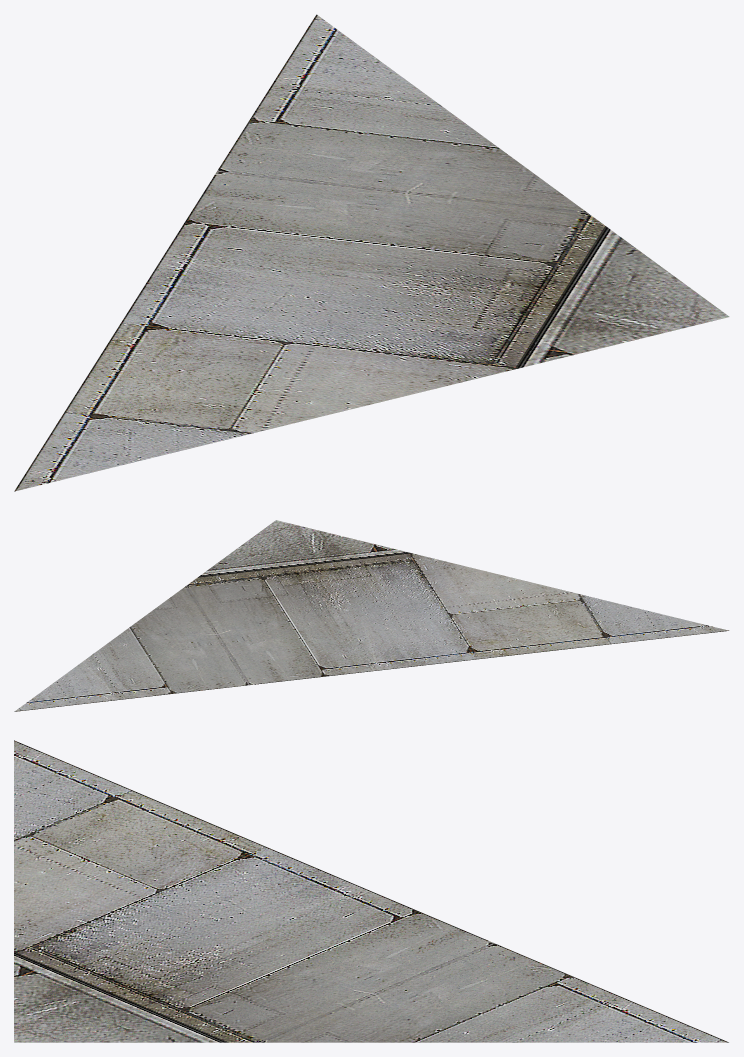
File: Ceiling_C_07.fbx
The picture shows the model from 3 angles, top to bottom: view 1: azimuth 30°, elevation 25°; view 2: azimuth 150°, elevation 25°; view 3: azimuth 270°, elevation 25°; orthographic projection. The views are drawn at different scales.
Parts seen in each view (by area): view 1: Ceiling_C_07; view 2: Ceiling_C_07; view 3: Ceiling_C_07.
Part boxes in pixels (x1,y1,x2,y2): Ceiling_C_07: (14,14,729,491); Ceiling_C_07: (14,520,729,711); Ceiling_C_07: (14,740,728,1042).
Size of the model in its own units: 400 by 0.00515 by 400.
Materials: 1 (1 with a texture image).
